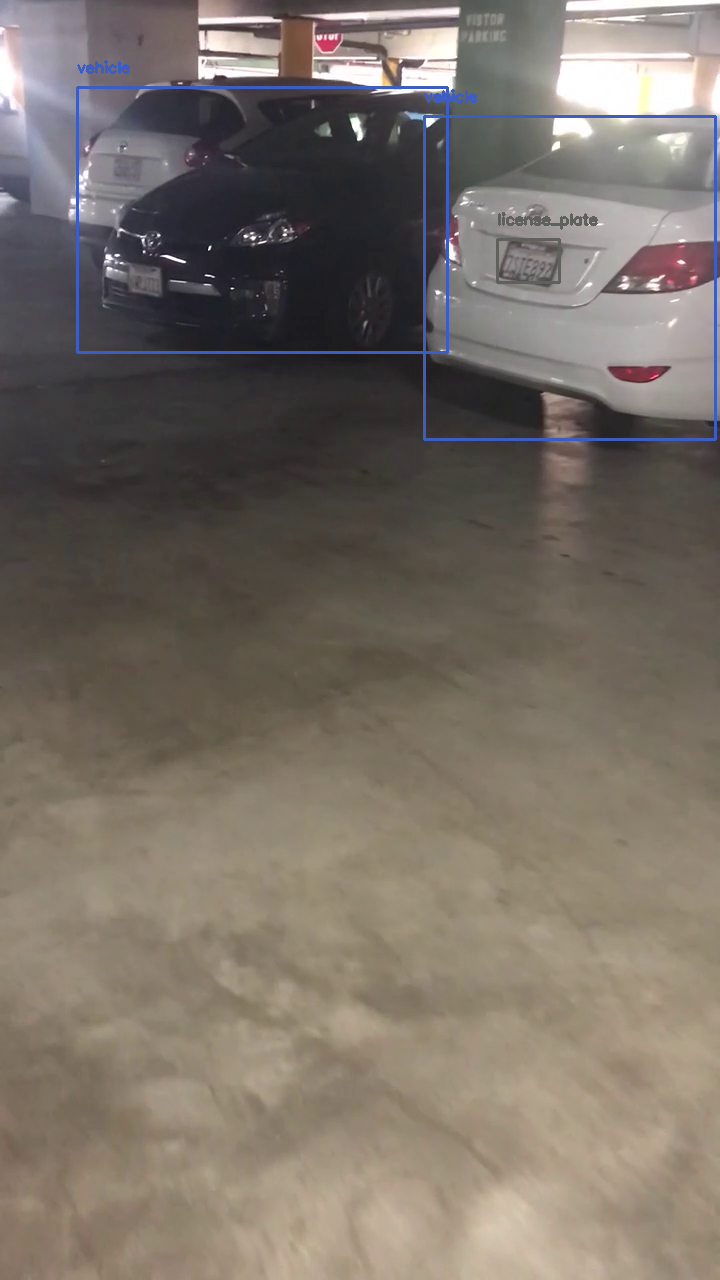license_plate: (497, 239, 559, 282)
vehicle: (77, 87, 447, 352), (424, 116, 715, 439)
